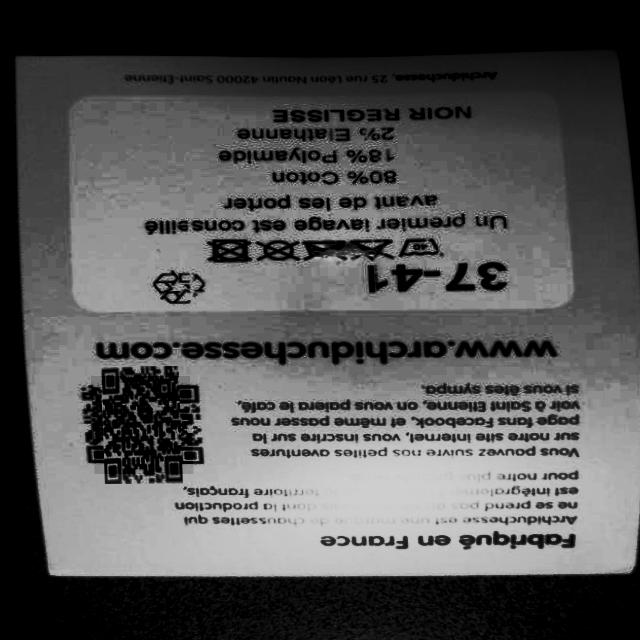qr_code: (88, 375, 190, 473)
